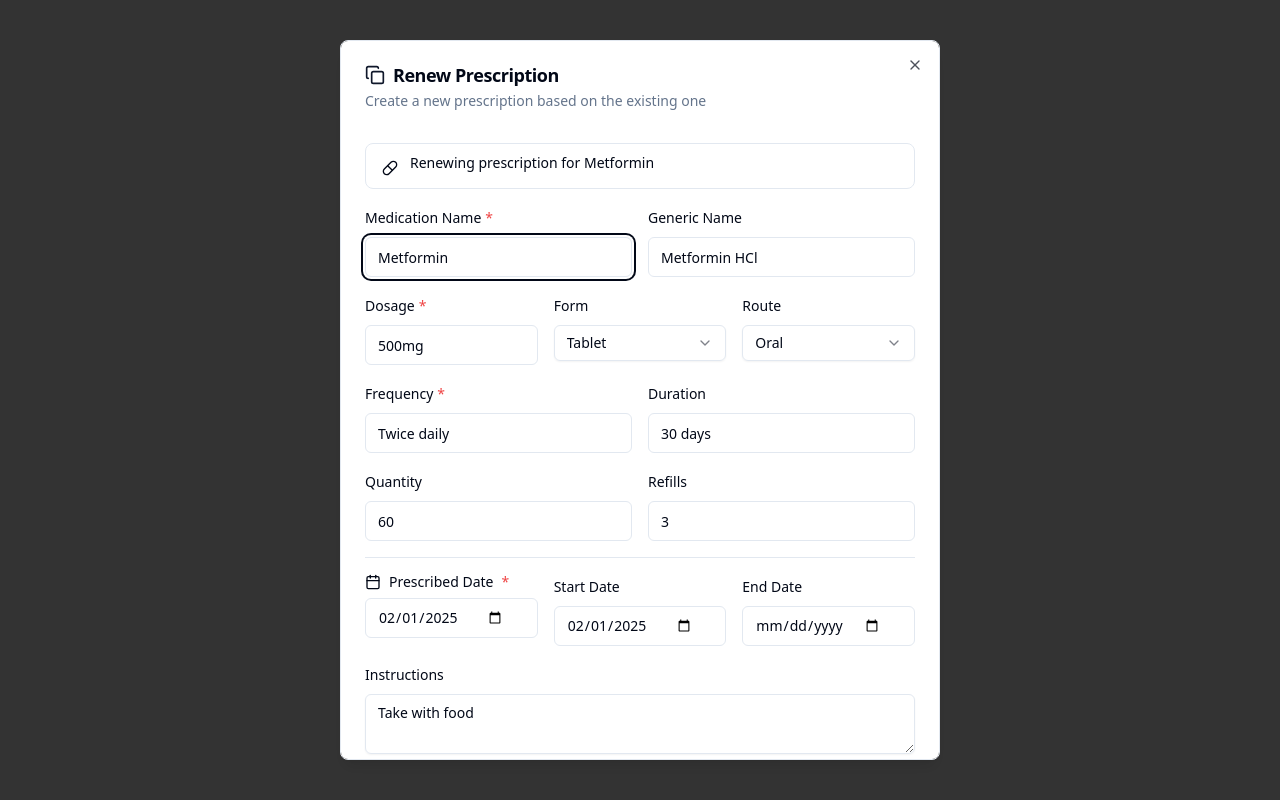
Scenario: RenewDialog › Form Validation › disables confirm when medication name is empty
This screenshot has width=1280, height=800.
Clear the field showing "Metformin" at (498, 257), box 365,237 -> 632,277
(page scrolled)
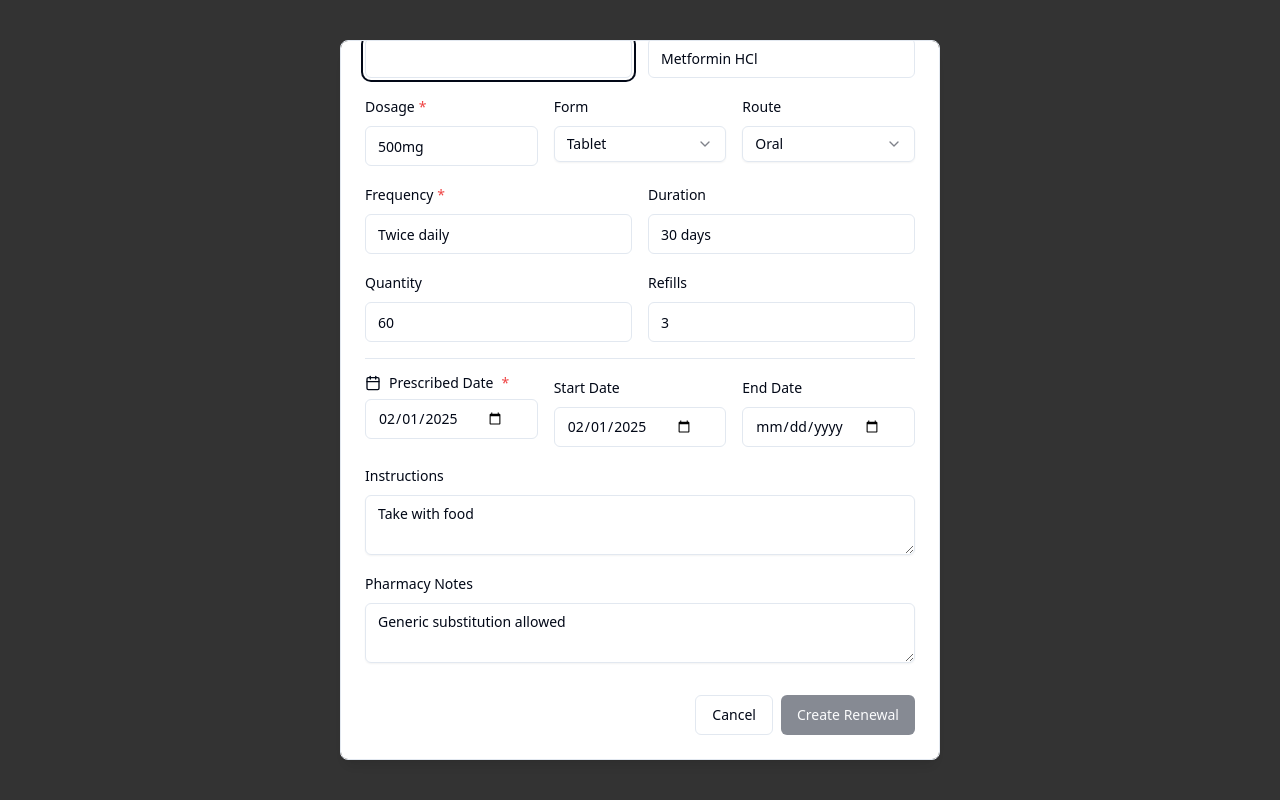
expect the button "Create Renewal" is disabled: met, box 781,695 -> 915,735
